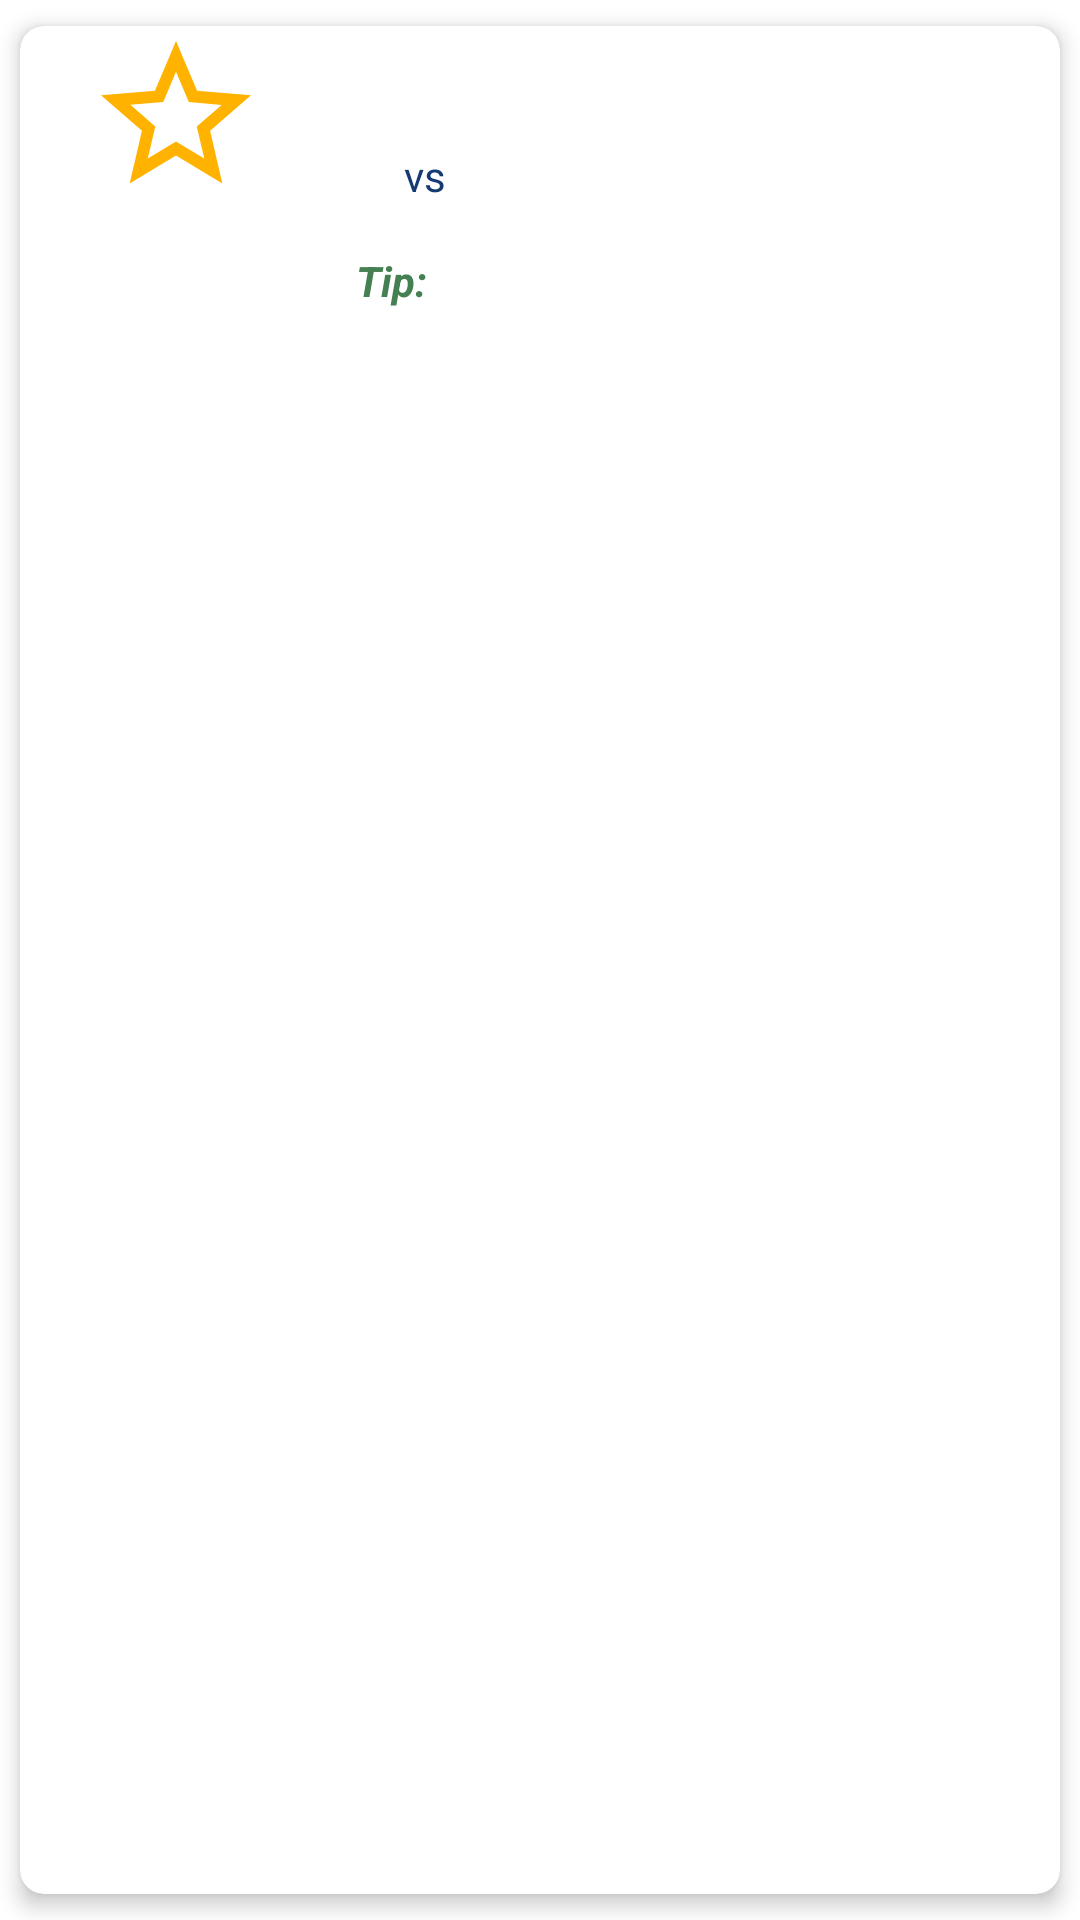

Screen size 1080*1920. Icon name, then its center in pixels as (x=x, y=y):
favour: (x=142, y=105)
